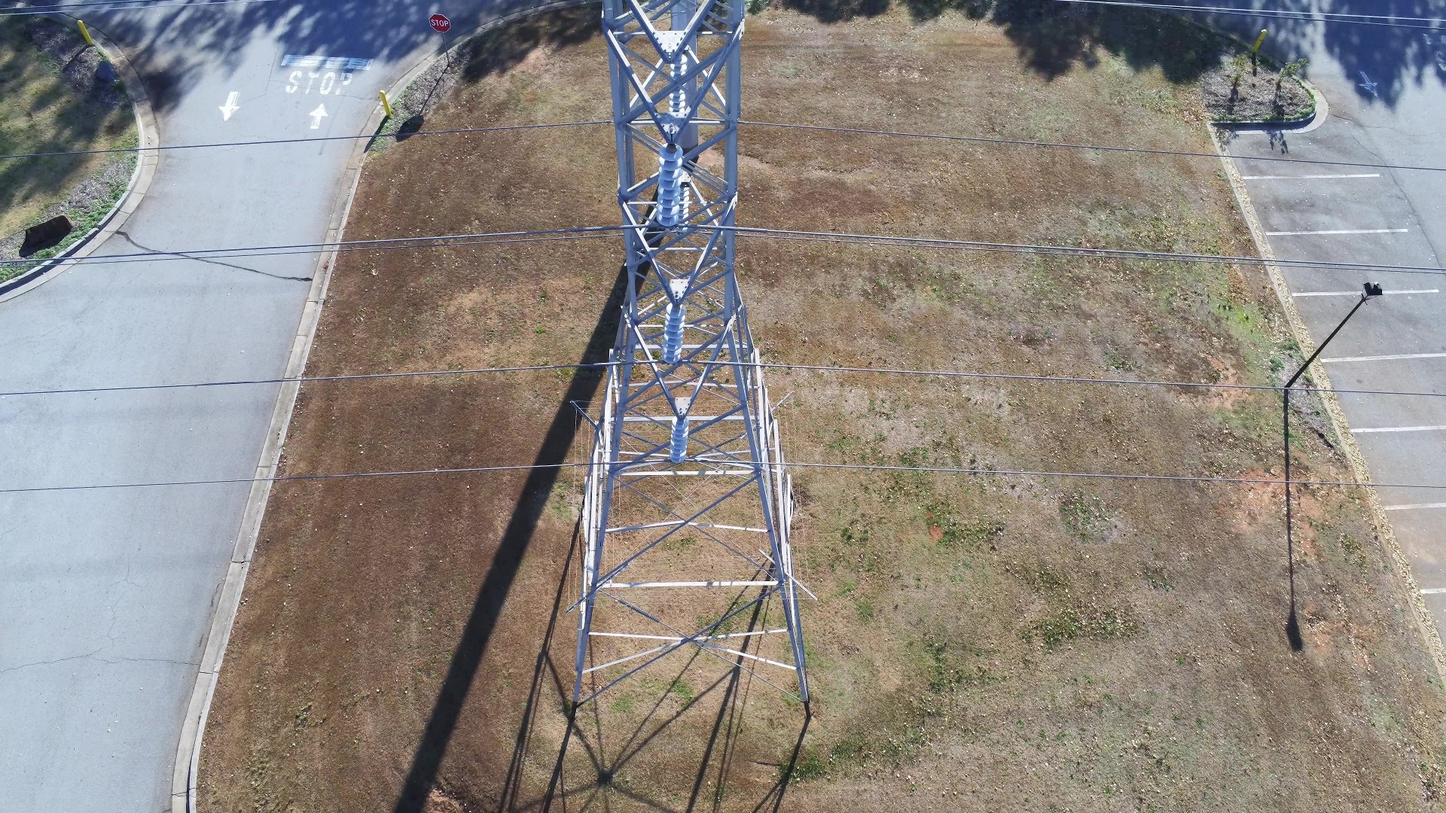insulator: (654, 142, 685, 228), (660, 303, 687, 365), (667, 53, 689, 117), (674, 185, 691, 234)
